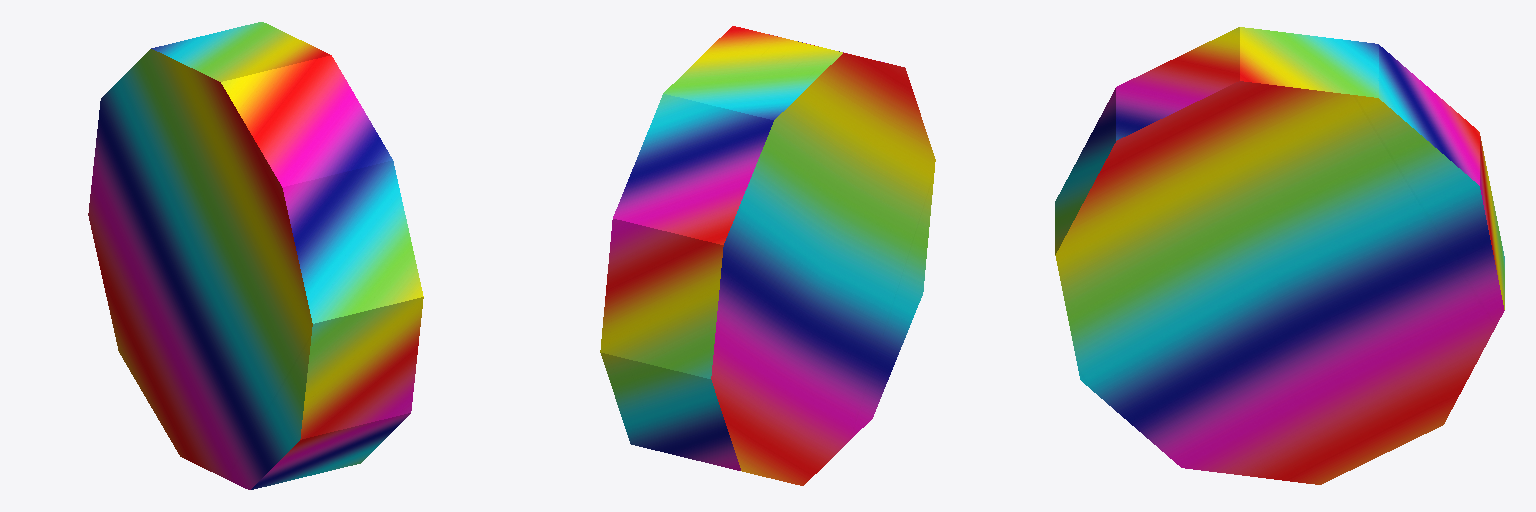
3 views of the same model, side by side, from view 1: azimuth 30°, elevation 25°; view 2: azimuth 150°, elevation 25°; view 3: azimuth 270°, elevation 25° (orthographic).
Parts seen in each view (by area): view 1: model_slot_colordrum:pCylinder1; view 2: model_slot_colordrum:pCylinder1; view 3: model_slot_colordrum:pCylinder1.
Part boxes in pixels (bbox=[...]): model_slot_colordrum:pCylinder1: bbox=[88, 22, 423, 489]; model_slot_colordrum:pCylinder1: bbox=[600, 26, 935, 485]; model_slot_colordrum:pCylinder1: bbox=[1055, 27, 1504, 484].
Size of the model in its own units: 0.375 by 1.31 by 1.31.
Materials: 1 (1 with a texture image).